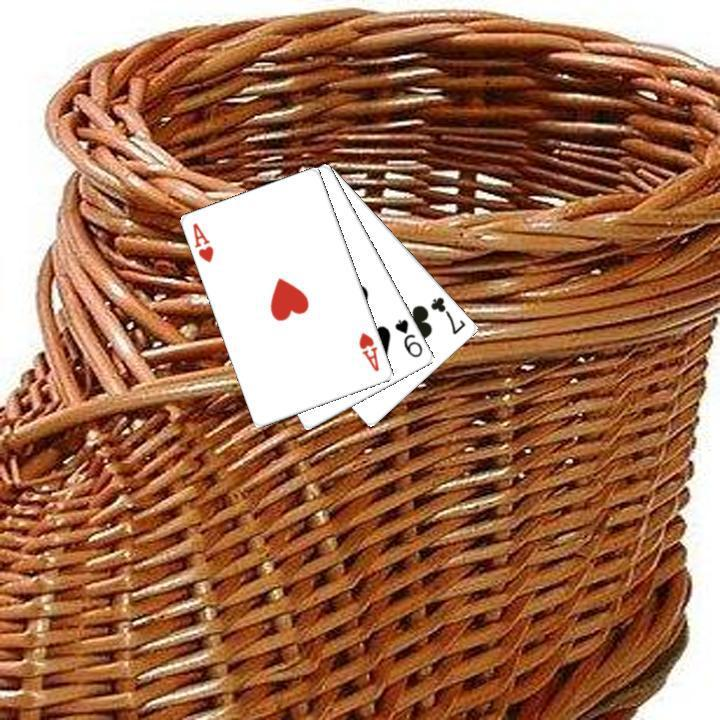7: (426, 292, 468, 337)
9: (391, 315, 425, 360)
A: (355, 328, 382, 374), (189, 219, 216, 264)
